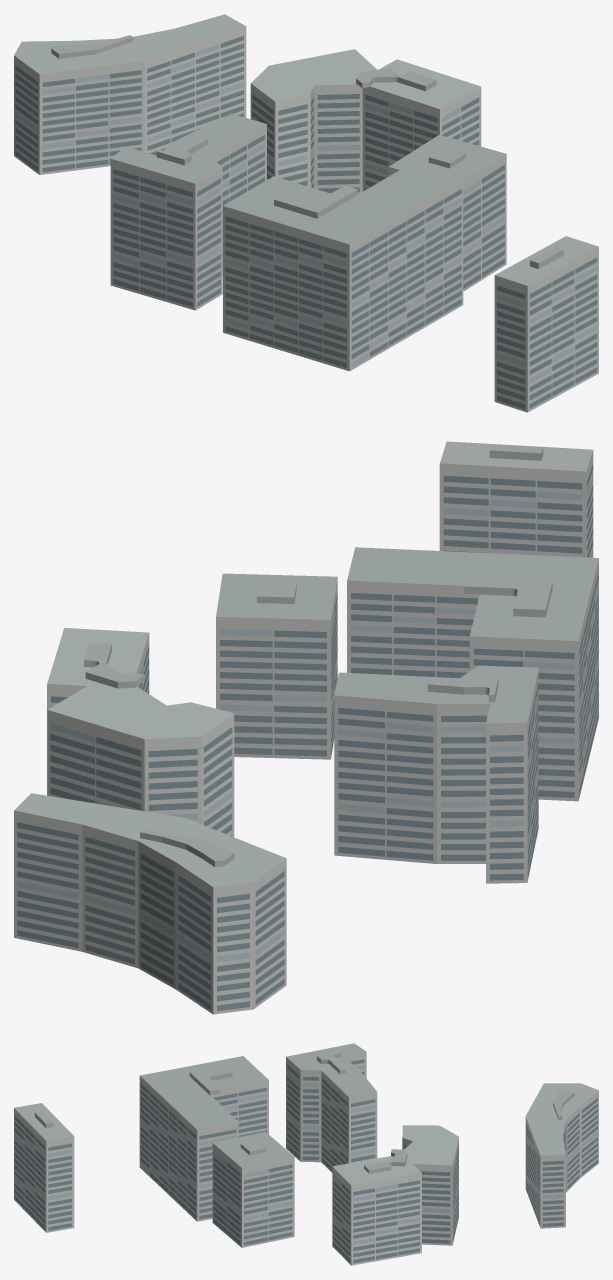
File: apt-a15879501.glb
3 renders of one model, top to bottom at view 1: azimuth 30°, elevation 25°; view 2: azimuth 150°, elevation 25°; view 3: azimuth 270°, elevation 25°, orthographic. The views are drawn at different scales.
Visible parts, largest first — view 1: apt-a15879501; view 2: apt-a15879501; view 3: apt-a15879501.
Part boxes in pixels (<box>): apt-a15879501: <box>14,14,598,412</box>; apt-a15879501: <box>14,441,598,1014</box>; apt-a15879501: <box>14,1043,598,1265</box>.
Bounding box in the file's own units: 113 × 39 × 215.
